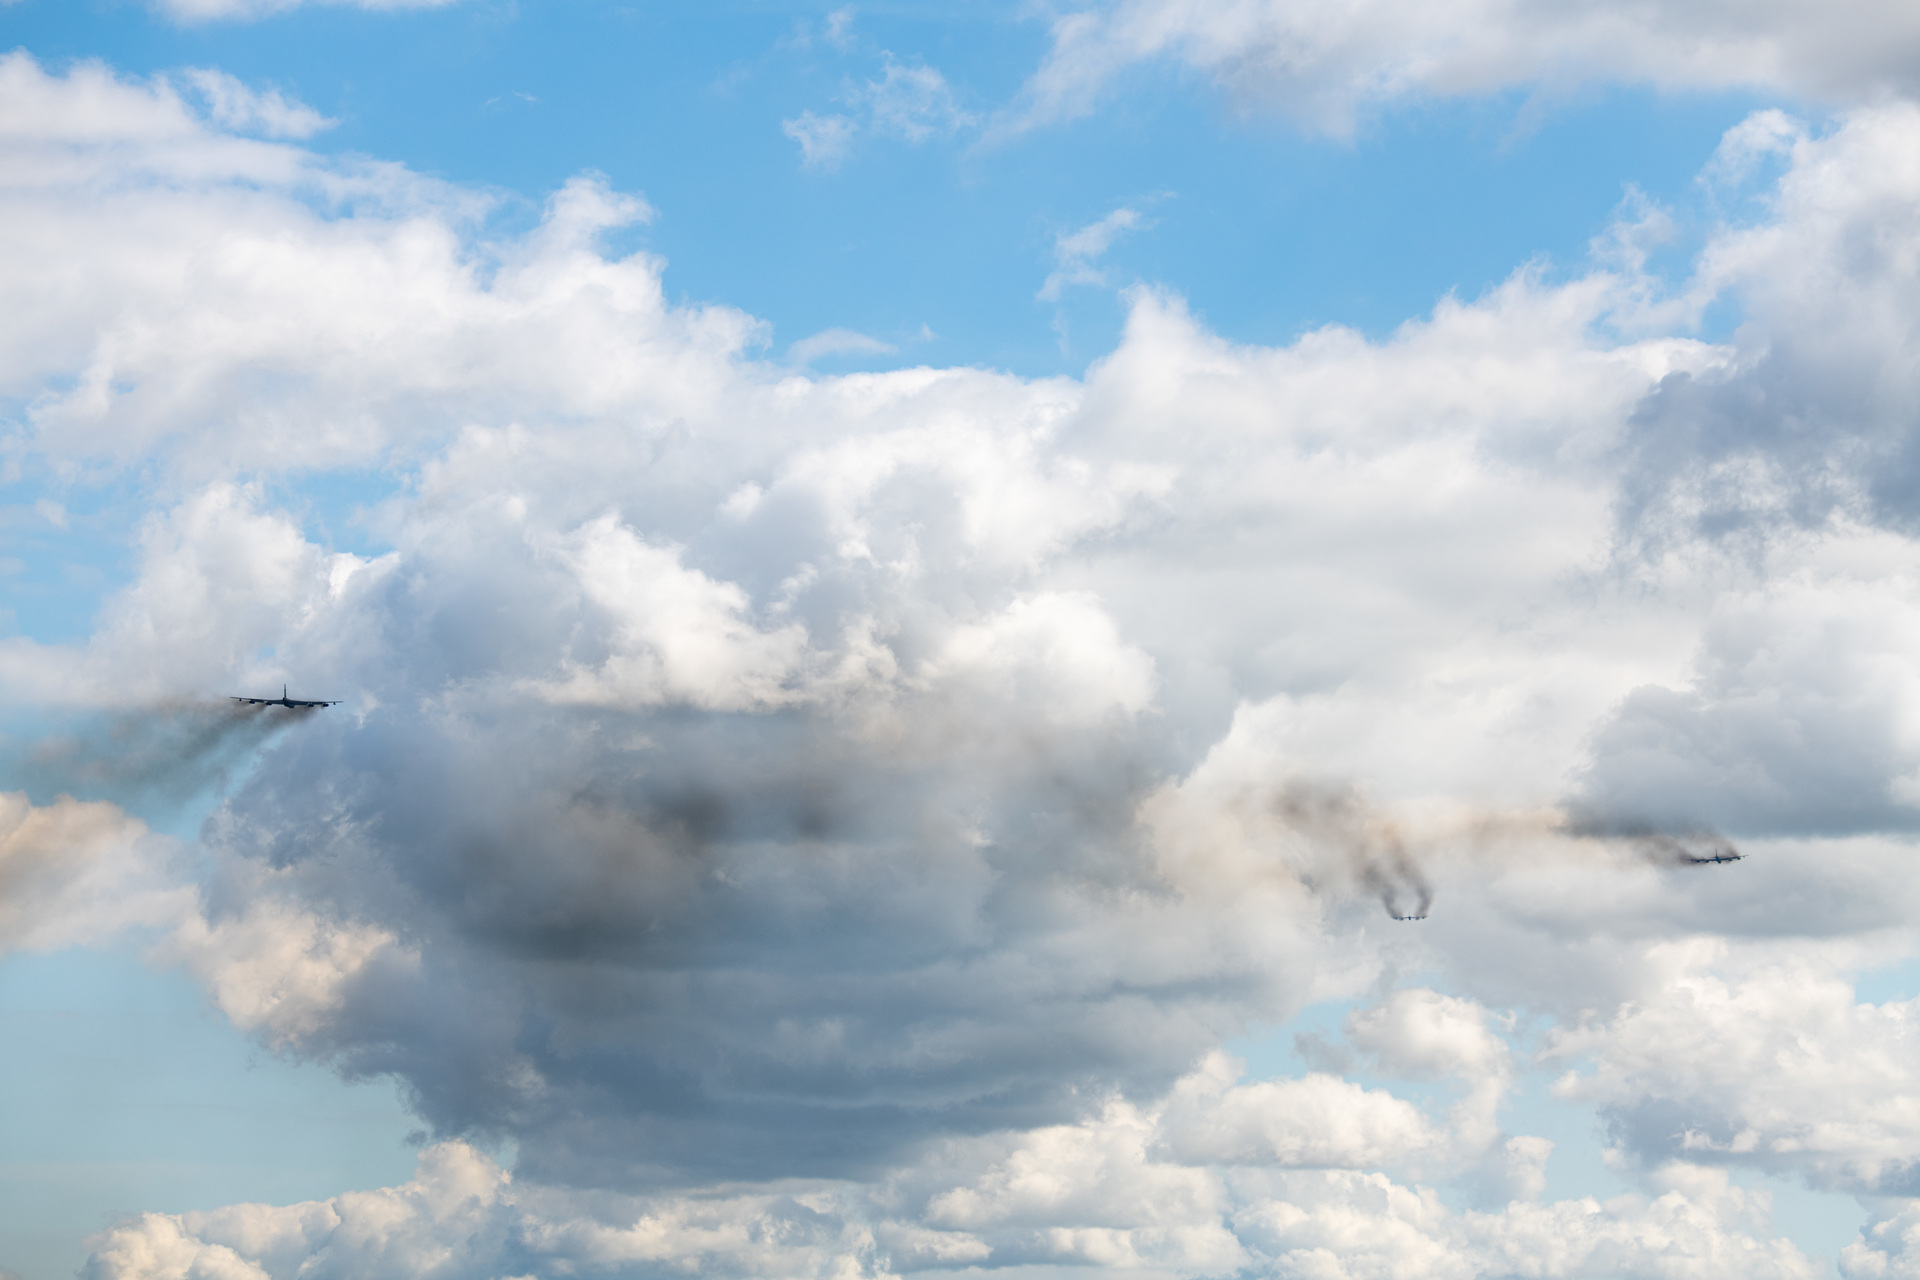B52: (229, 683, 344, 709), (1681, 849, 1751, 866), (1389, 911, 1429, 921)
